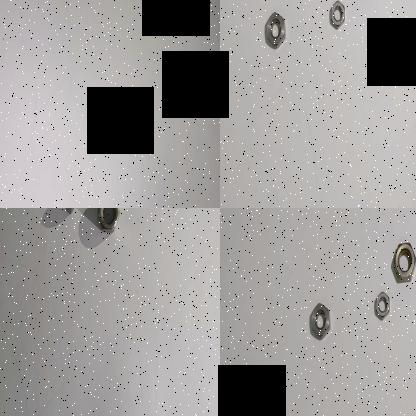NUTS: (389, 231, 416, 285), (306, 296, 334, 344), (262, 2, 288, 52), (324, 0, 347, 28), (97, 208, 121, 234), (370, 292, 390, 320), (64, 208, 81, 216)
